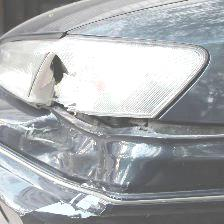head_lamp: (11, 61, 116, 189)
